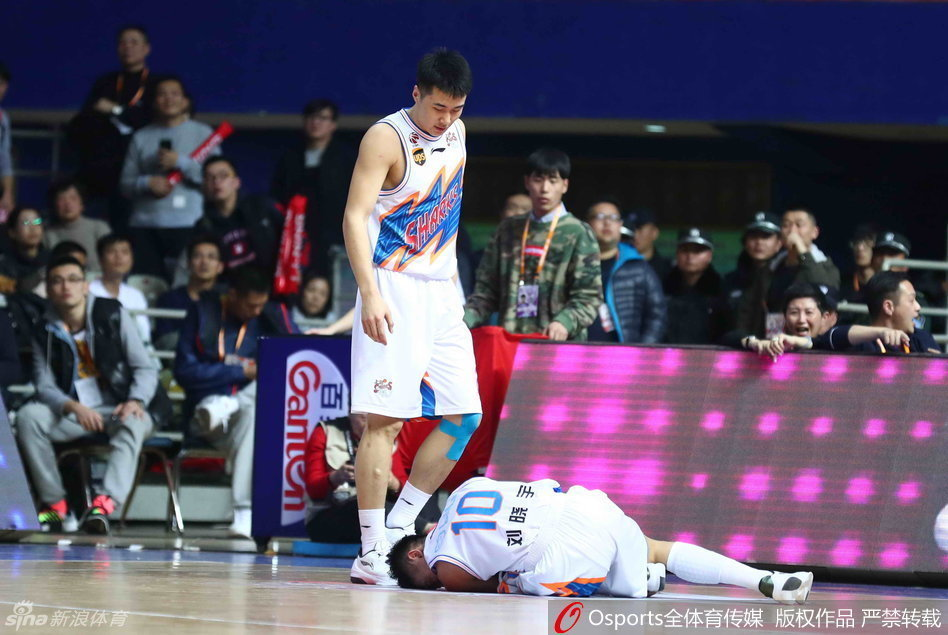10+: (2, 22, 946, 576)
down: (353, 466, 849, 610)
